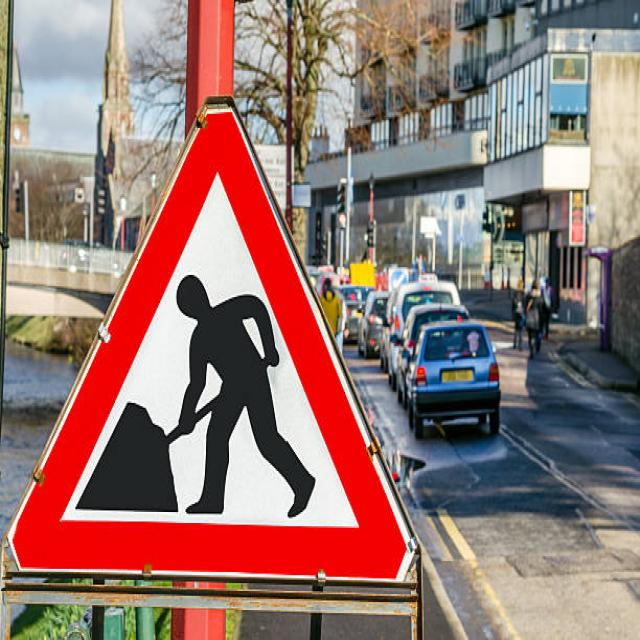road_work: (8, 107, 412, 590)
